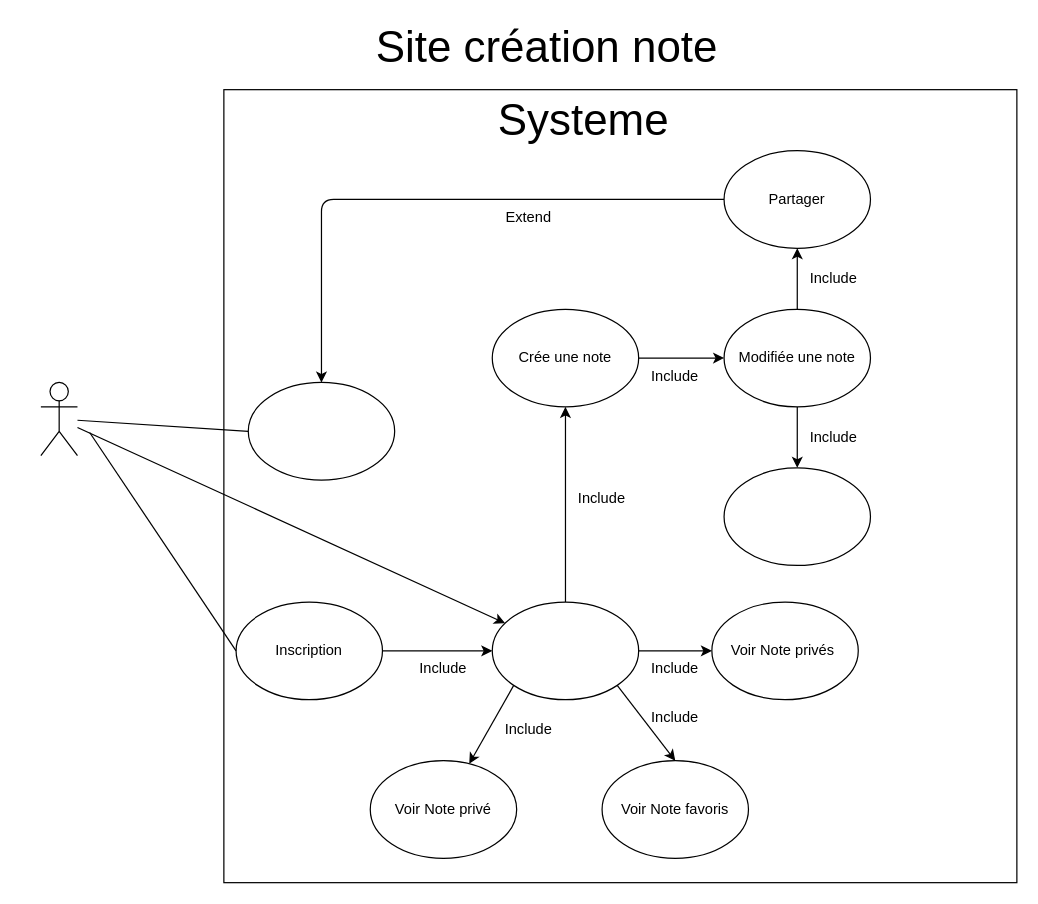
Image size: 1038x904. Some labels were removed from this diagram. Each missing label, with the centre of its shape:
"Connexion" belongs at (x=565, y=650).
"Internautes" belongs at (x=58, y=418).
"Modifier Password, private et favoris" belongs at (x=796, y=516).
"Voir Note public" belongs at (x=321, y=430).
